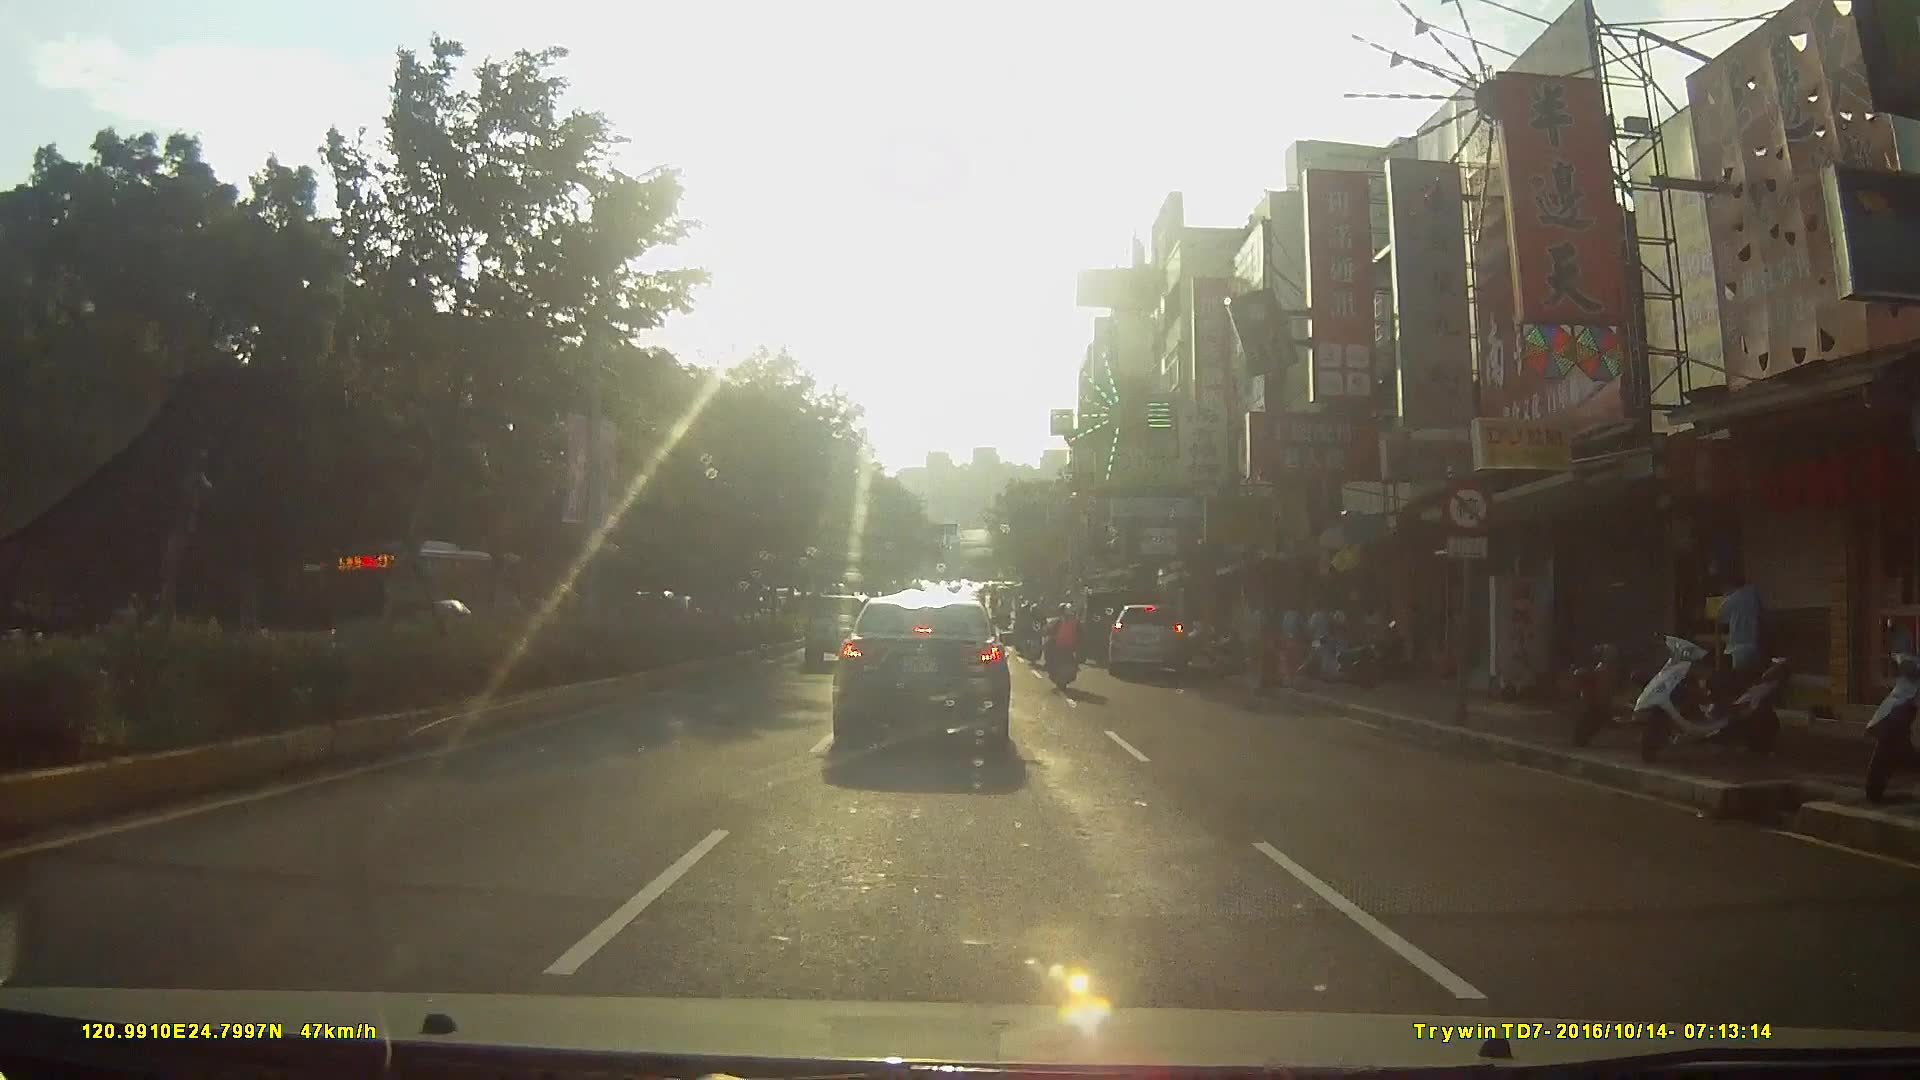pedestrian: (1709, 578, 1764, 725)
rider: (1049, 604, 1093, 701), (1017, 602, 1045, 667)
vehicle: (829, 588, 1031, 761), (316, 540, 529, 655), (1107, 597, 1196, 681)
